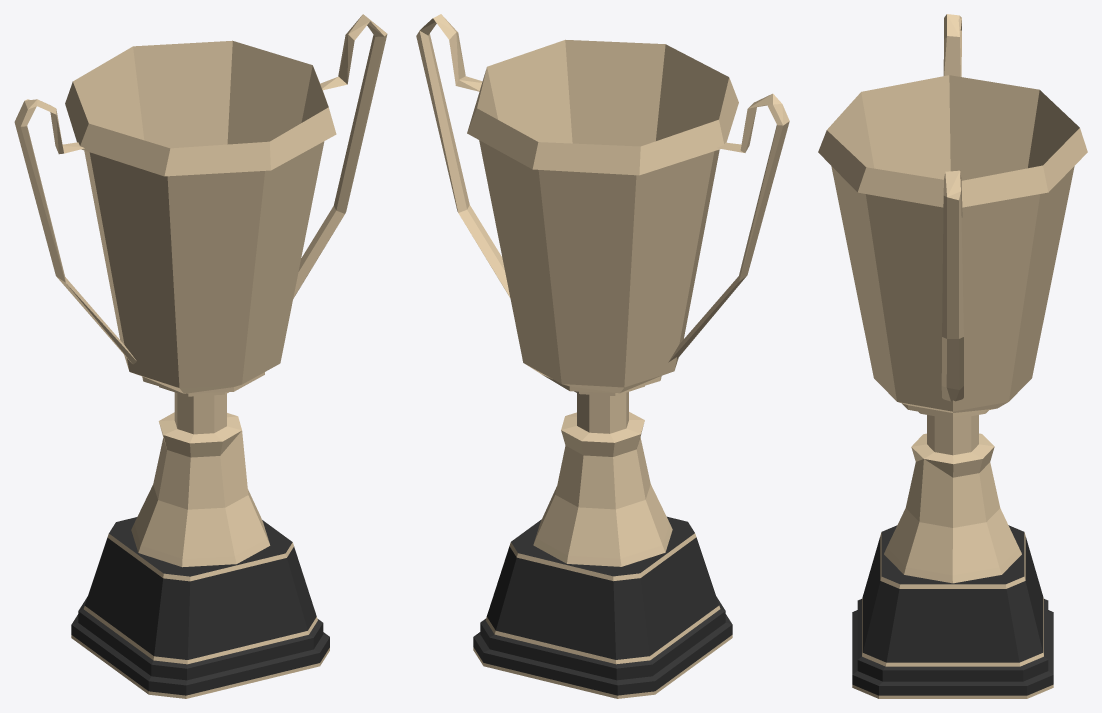
Rendered from trophee.fbx.
3 views of the same model, side by side, from view 1: azimuth 30°, elevation 25°; view 2: azimuth 150°, elevation 25°; view 3: azimuth 270°, elevation 25° (orthographic). The views are drawn at different scales.
Parts seen in each view (by area): view 1: Cube; view 2: Cube; view 3: Cube.
Part boxes in pixels (box(x1,y1,x2,y2)): Cube: box(14, 14, 387, 698); Cube: box(416, 14, 789, 698); Cube: box(818, 14, 1087, 698).
Size of the model in its own units: 405 by 620 by 268.
